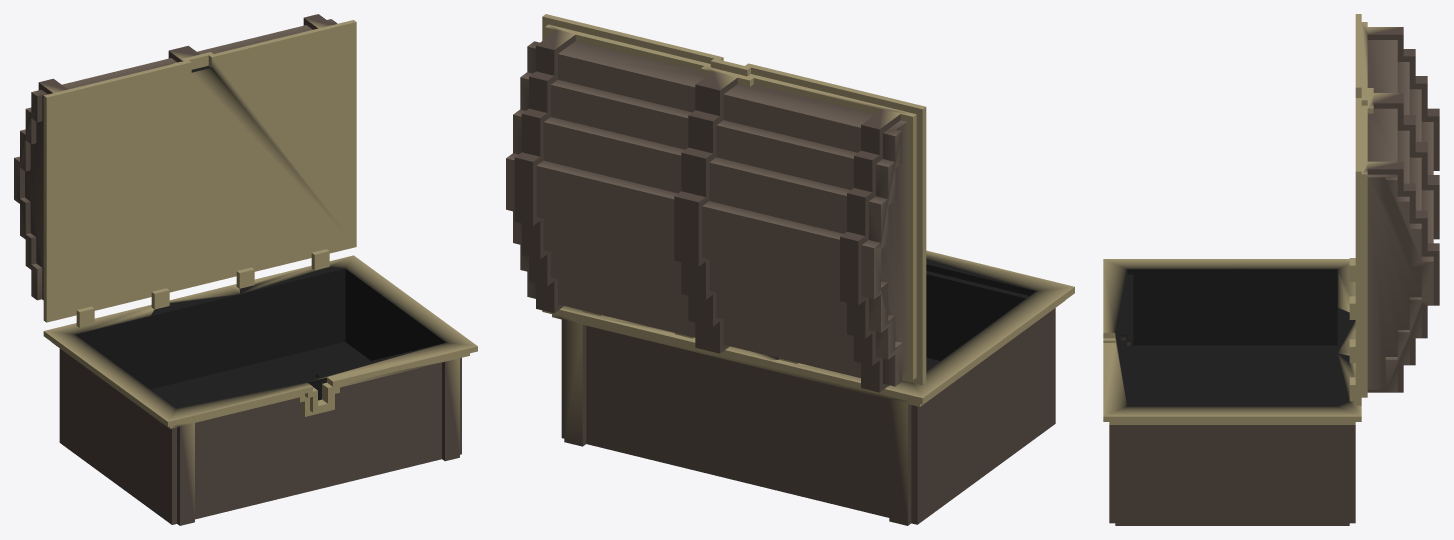
File: Model Treasure Chest open empty.fbx
3 views of the same model, side by side, from view 1: azimuth 30°, elevation 25°; view 2: azimuth 150°, elevation 25°; view 3: azimuth 270°, elevation 25° (orthographic). The views are drawn at different scales.
Parts seen in each view (by area): view 1: Treasure Chest open empty Cleaned; view 2: Treasure Chest open empty Cleaned; view 3: Treasure Chest open empty Cleaned.
Part boxes in pixels (x1,y1,x2,y2): Treasure Chest open empty Cleaned: (14, 14, 477, 525); Treasure Chest open empty Cleaned: (506, 14, 1074, 525); Treasure Chest open empty Cleaned: (1103, 14, 1439, 525).
Bounding box in the file's own units: 620 × 660 × 560.
